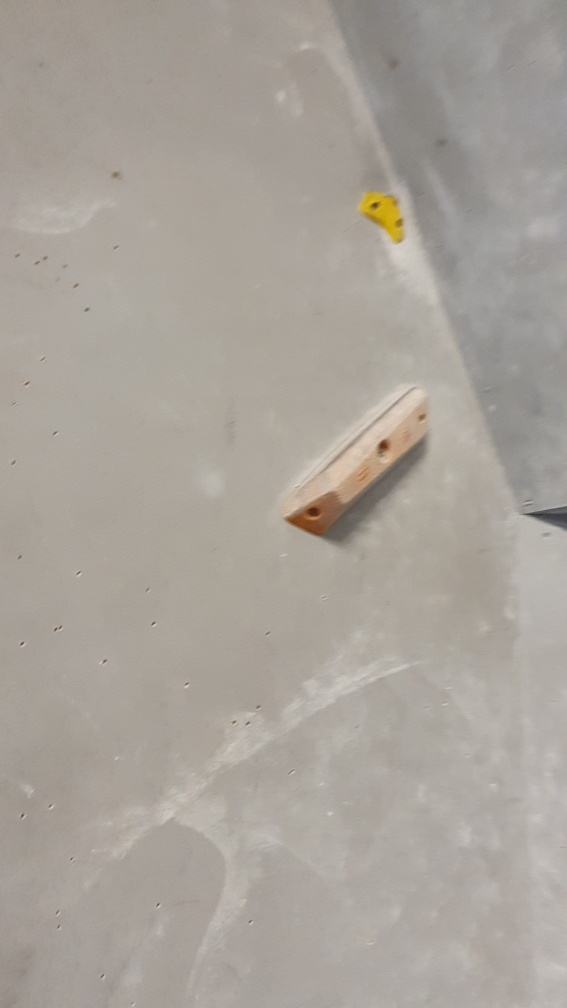Pinch: (278, 386, 434, 543)
